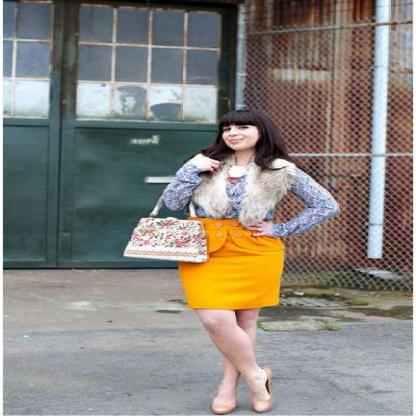bag: (124, 217, 207, 261)
shirt: (155, 159, 341, 236)
shoe: (212, 391, 280, 415)
skirt: (178, 216, 283, 318)
